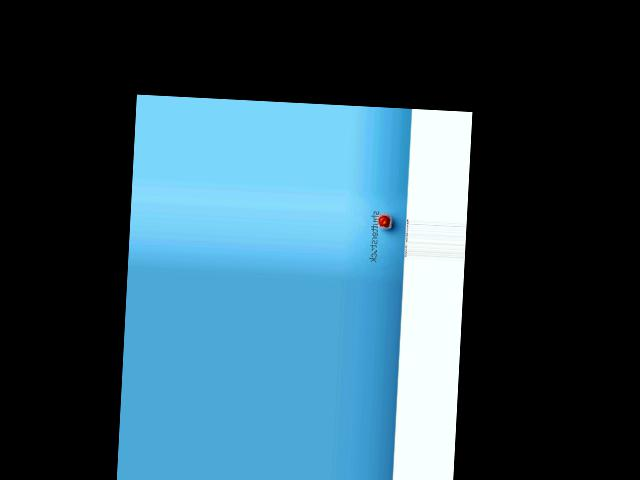tomato: (378, 216, 390, 227)
